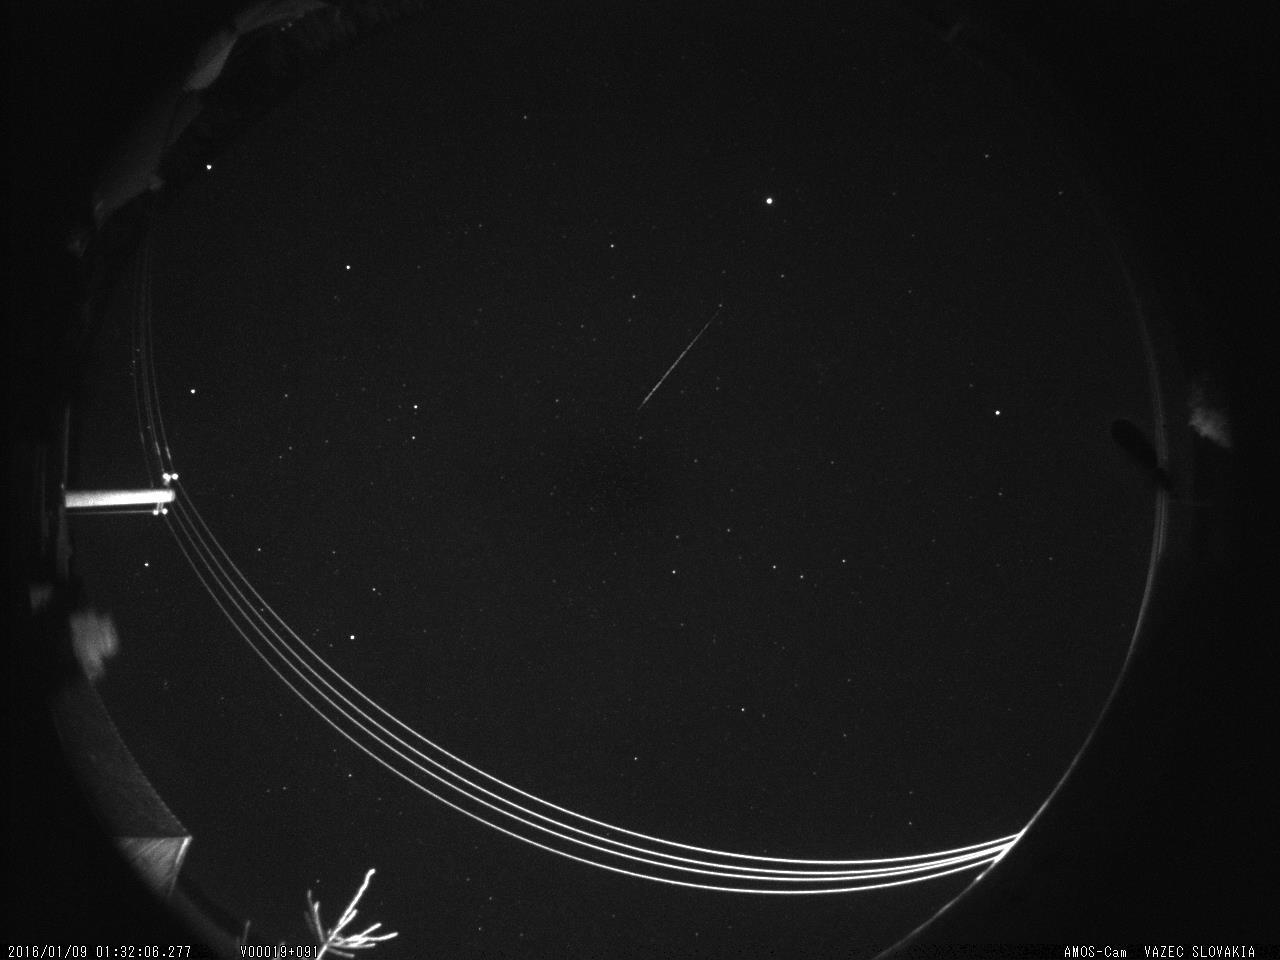Meteor: (633, 303, 728, 419)
